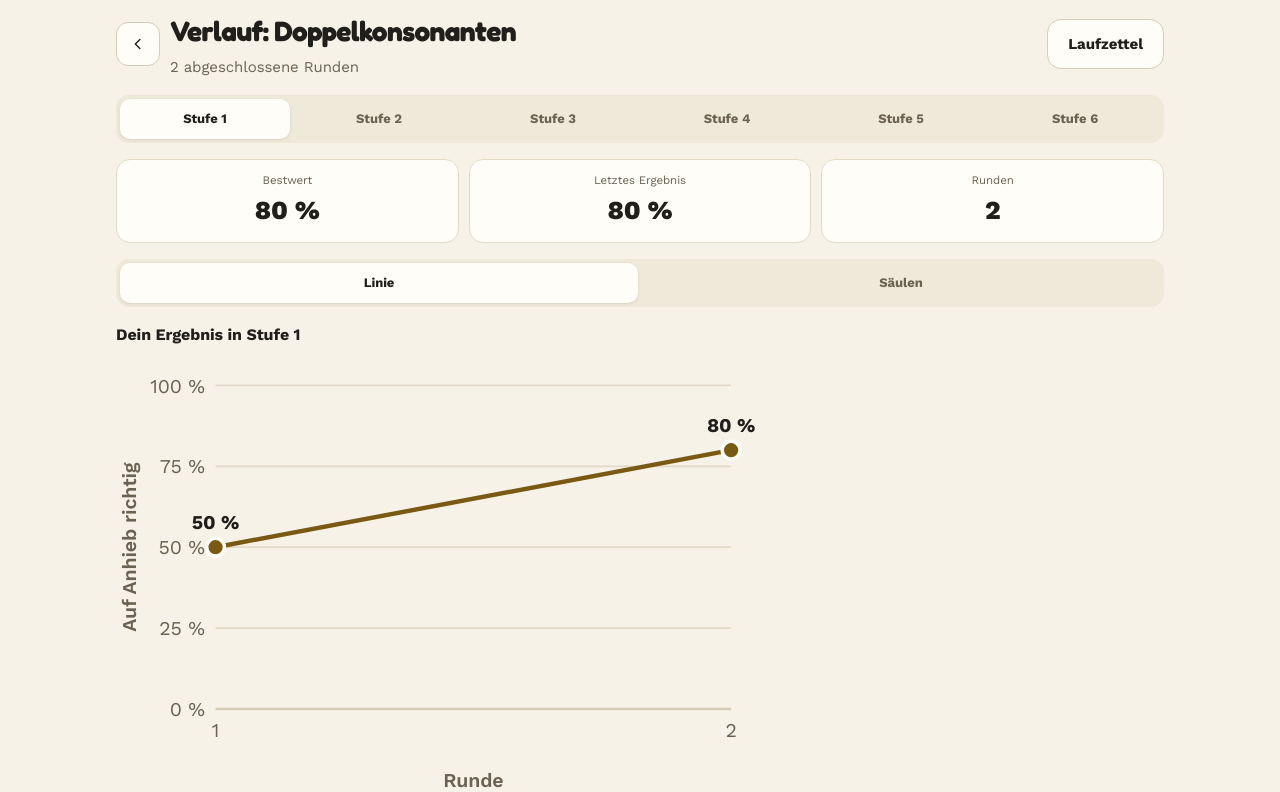
Test: HistoryScreen › schaltet zwischen Linie und Säulen um
Step 1. Click the button "Säulen" → x=901, y=283, box top-left (642, 263), bottom-right (1160, 303)
(page scrolled)
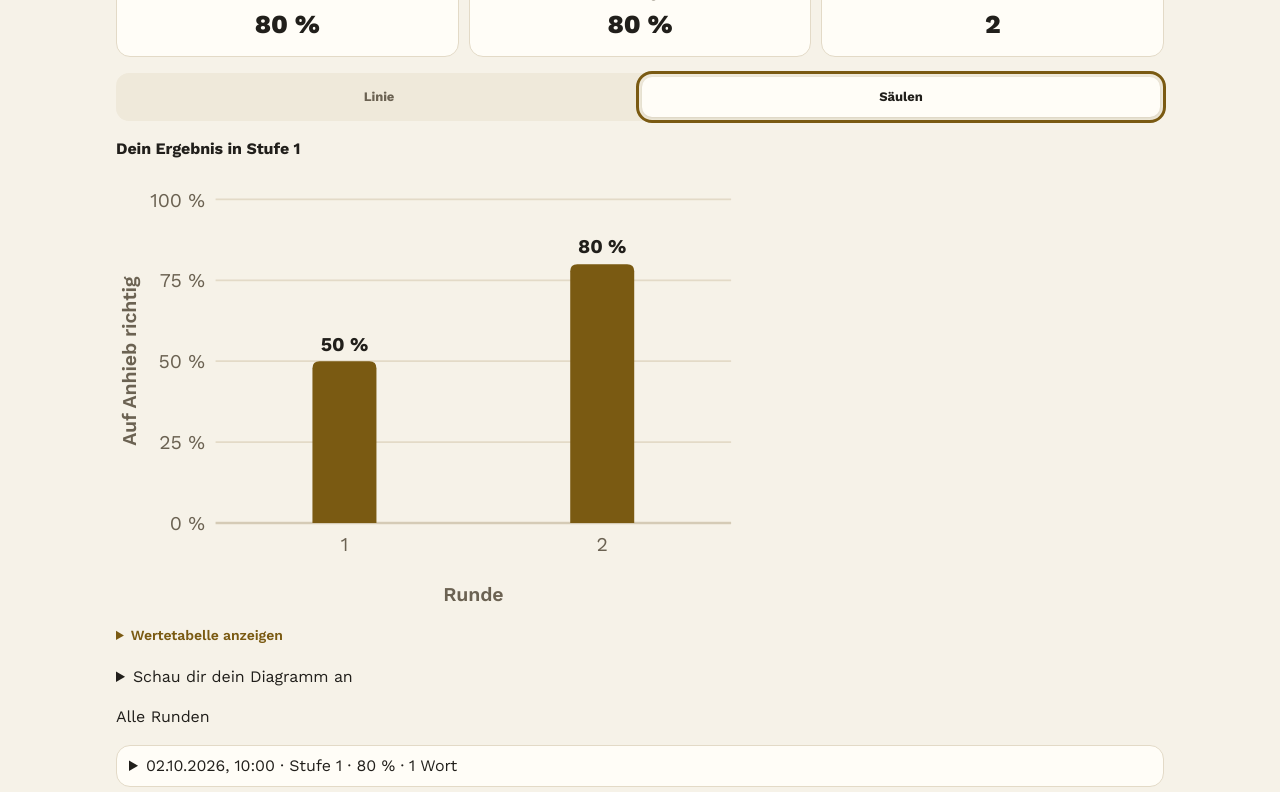
Expected: the picture named "2 Werte, von 50 Prozent auf 80 Prozent gestiegen" is shown, top-left (116, 171), bottom-right (756, 615)
Now the button "Säulen" is pressed, box top-left (642, 77), bottom-right (1160, 117)
